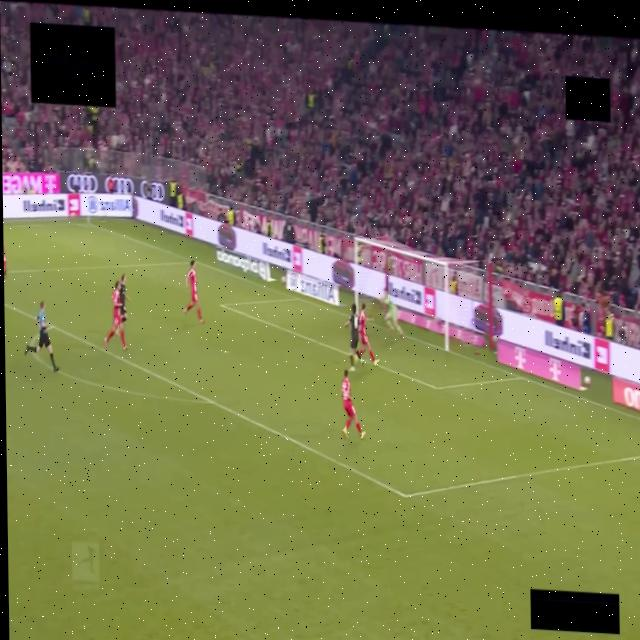player: (341, 370, 364, 438), (104, 282, 126, 350), (183, 260, 203, 323), (358, 303, 378, 365), (345, 304, 362, 372), (380, 292, 402, 336), (118, 274, 129, 323), (4, 245, 5, 281)
referee: (24, 301, 58, 371)
